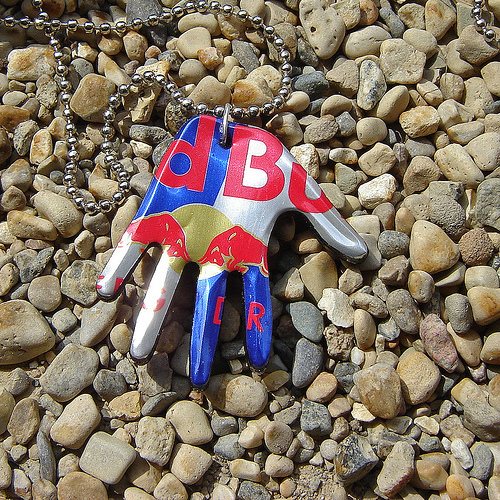litter: (94, 116, 371, 391), (0, 3, 295, 212), (471, 0, 500, 50)
